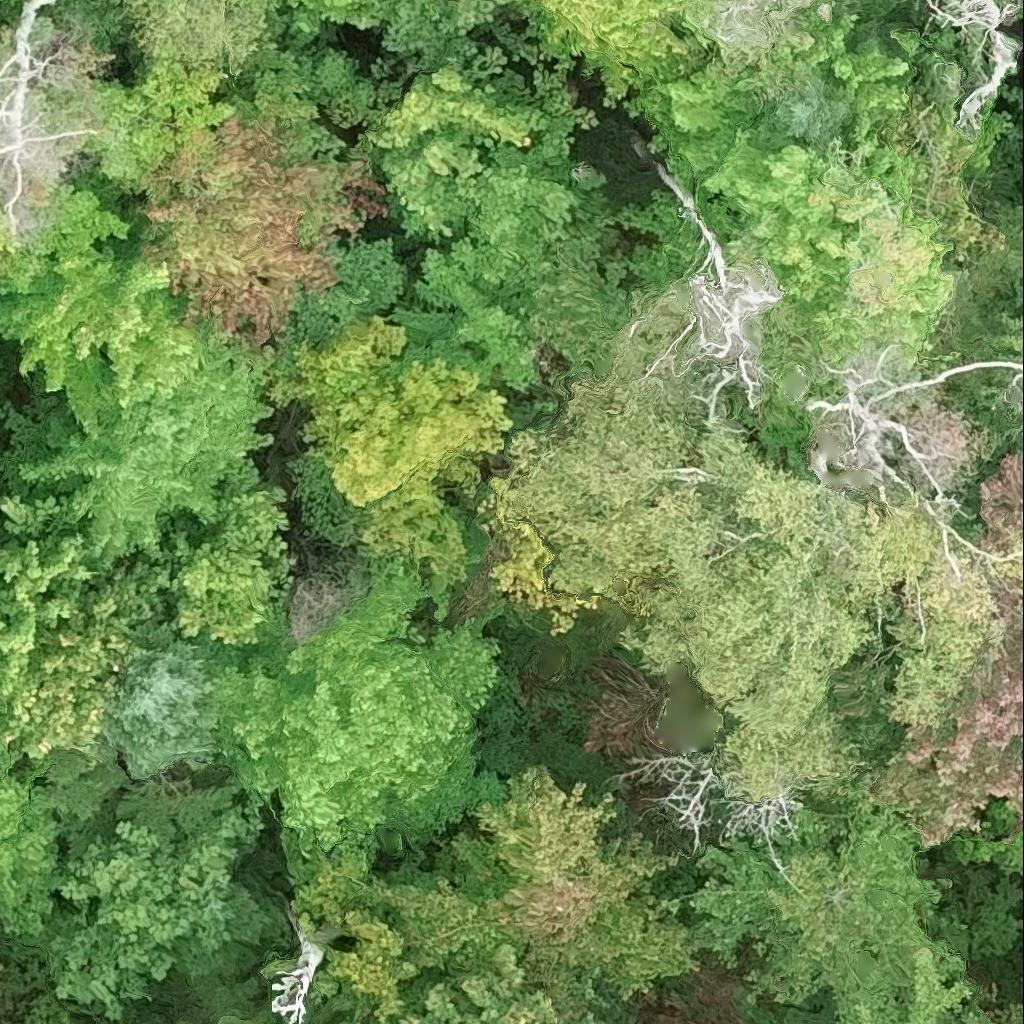crown: (624, 4, 1000, 470), (615, 462, 1023, 797), (482, 256, 805, 630), (281, 767, 700, 1020), (187, 554, 506, 856), (137, 66, 389, 351), (318, 0, 597, 243), (263, 318, 513, 584), (690, 793, 966, 1023), (0, 180, 236, 441), (0, 345, 276, 564), (379, 150, 613, 394), (0, 497, 202, 762), (45, 782, 262, 1018), (883, 569, 1023, 845), (0, 0, 102, 237), (499, 0, 712, 108), (361, 942, 638, 1023), (80, 64, 238, 194), (165, 489, 296, 645), (59, 0, 273, 93), (100, 620, 219, 781), (675, 0, 864, 77), (926, 0, 1023, 142), (0, 744, 67, 934), (850, 953, 978, 1023), (273, 0, 456, 30), (956, 803, 1023, 872), (985, 449, 1023, 538), (1000, 312, 1023, 352), (885, 0, 908, 9), (1007, 1016, 1023, 1023), (839, 1010, 842, 1023)
